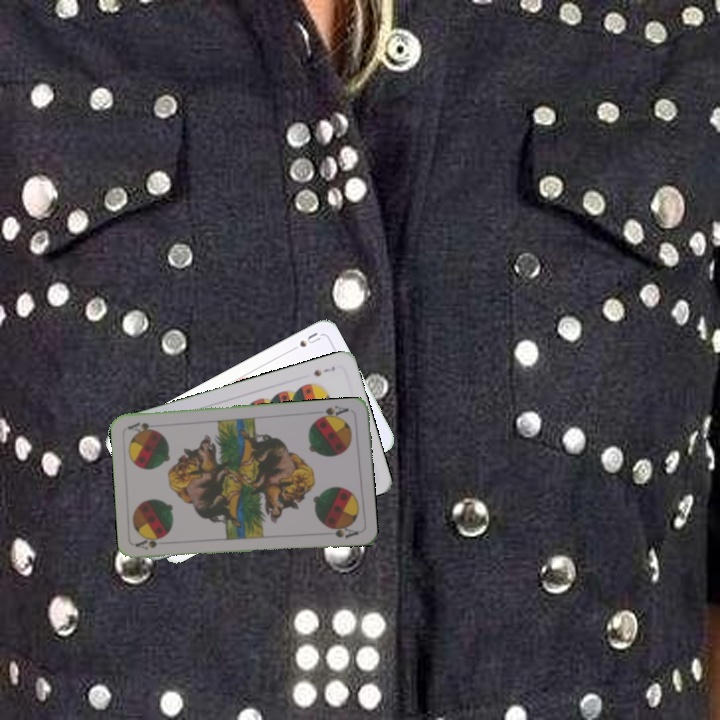S7: (309, 362, 338, 379)
SA: (313, 402, 351, 423), (132, 534, 173, 552)
SU: (286, 328, 323, 355)
